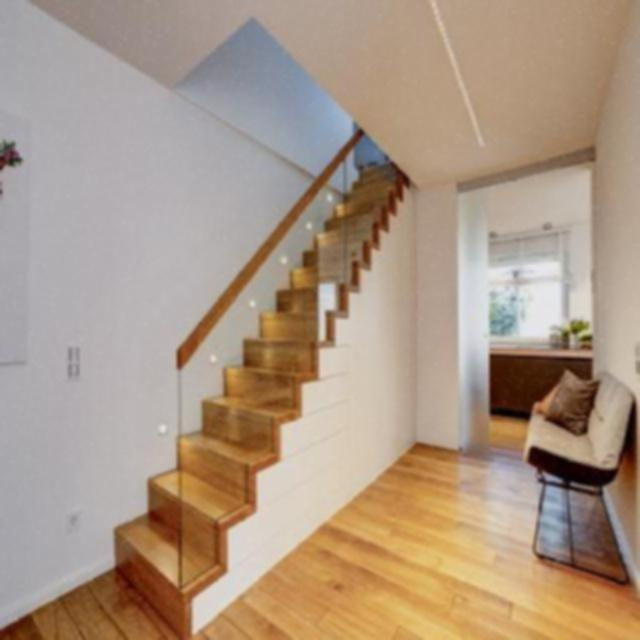stair: (90, 134, 418, 617)
